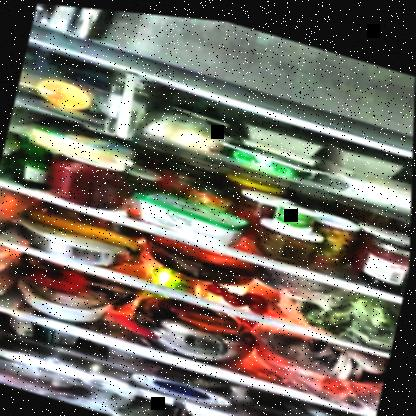banana: (26, 207, 148, 253)
cheese: (140, 184, 248, 244), (29, 119, 136, 169)
cream_cheese: (218, 133, 328, 178)
lettuce: (297, 272, 401, 342)
orange: (184, 410, 226, 415)
tomato: (29, 257, 96, 297), (204, 275, 272, 310)
tomato_paste: (42, 147, 134, 213)
yoghurt: (270, 191, 323, 232)
